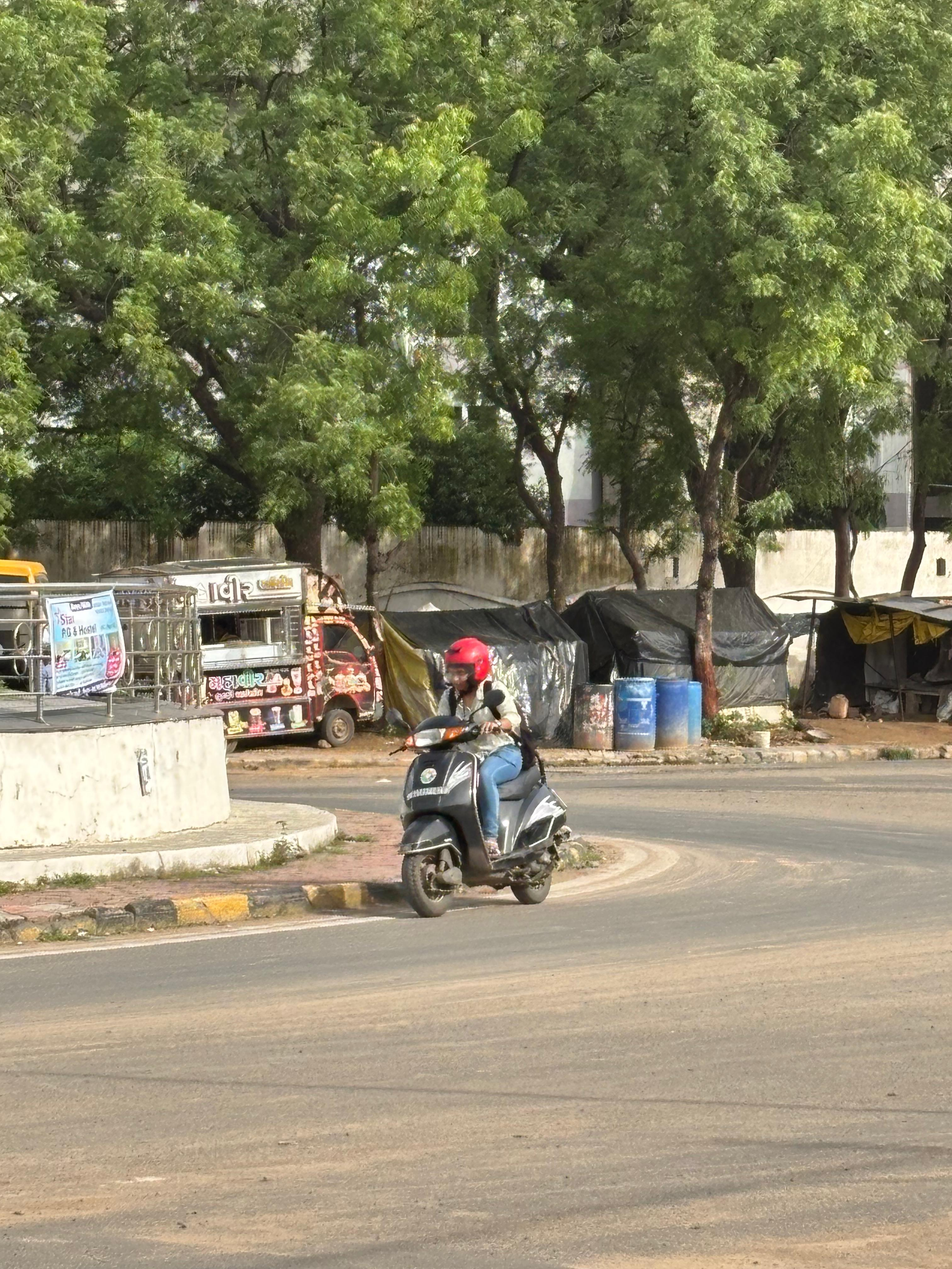BikeWithRider: (385, 629, 577, 923)
Helmet: (440, 633, 495, 693)
